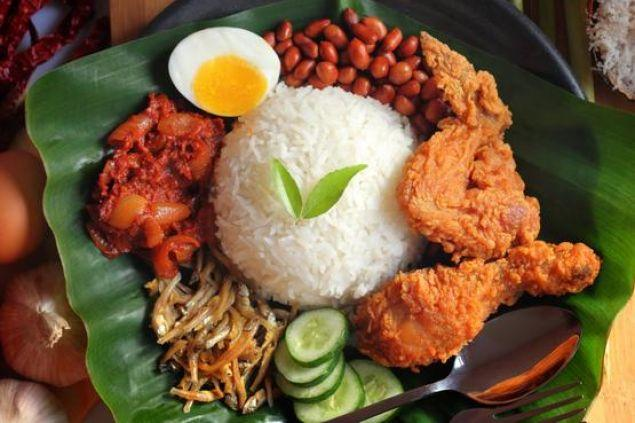Anchovies: (144, 258, 291, 415)
Boiled-Egg: (171, 28, 281, 117)
Cucumber: (277, 309, 404, 423)
Fried-Chicken: (350, 32, 603, 369)
Peanuts: (262, 10, 451, 145)
Rice: (211, 87, 422, 306)
Sambal: (86, 101, 228, 274)
